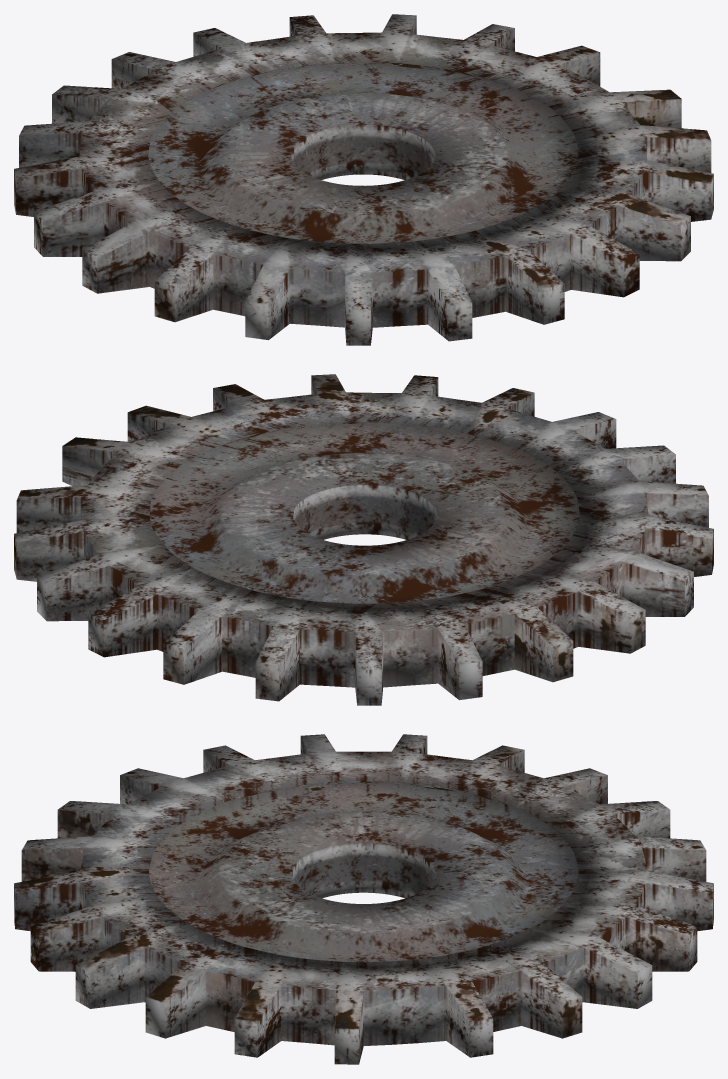
Rendered from gear.glb.
3 views of the same model, one above another, from view 1: azimuth 30°, elevation 25°; view 2: azimuth 150°, elevation 25°; view 3: azimuth 270°, elevation 25° (orthographic).
Visible parts, largest first — view 1: Cylinder; view 2: Cylinder; view 3: Cylinder.
Part boxes in pixels (x1,y1,x2,y2): Cylinder: (14,14,713,345); Cylinder: (14,374,713,705); Cylinder: (14,734,713,1064).
Bounding box in the file's own units: 1.27 × 0.1108 × 1.27.
1 material, 1 textured.
